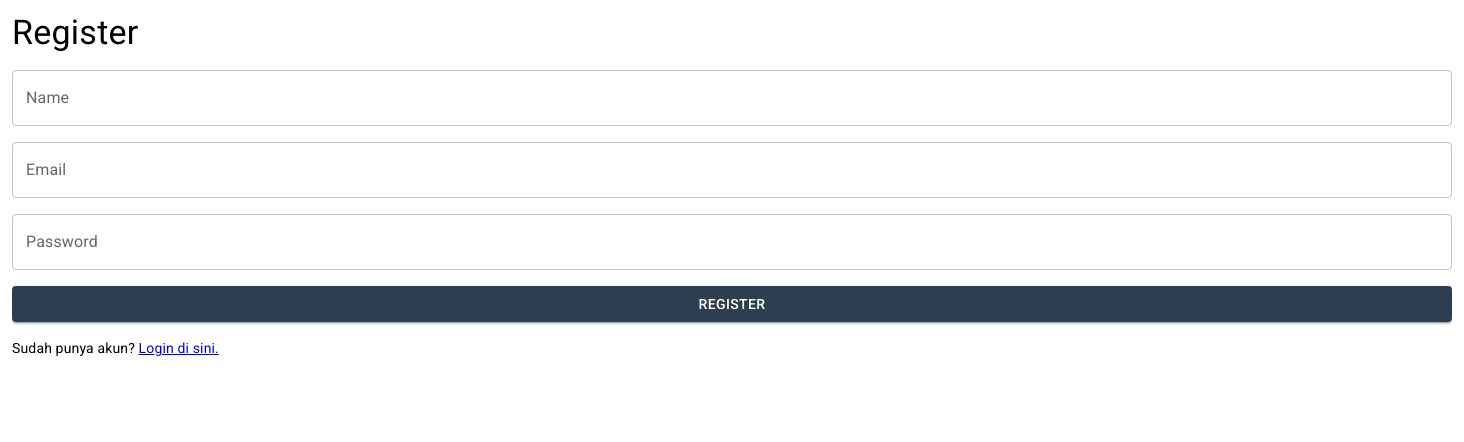
Test: RegisterForm component › should display error when submitting an empty form
This screenshot has width=1464, height=442.
What coordinates should you click on to do the following:
click the button "Register"
I would click on:
 (732, 304)
Its box is [12,286,1452,322].
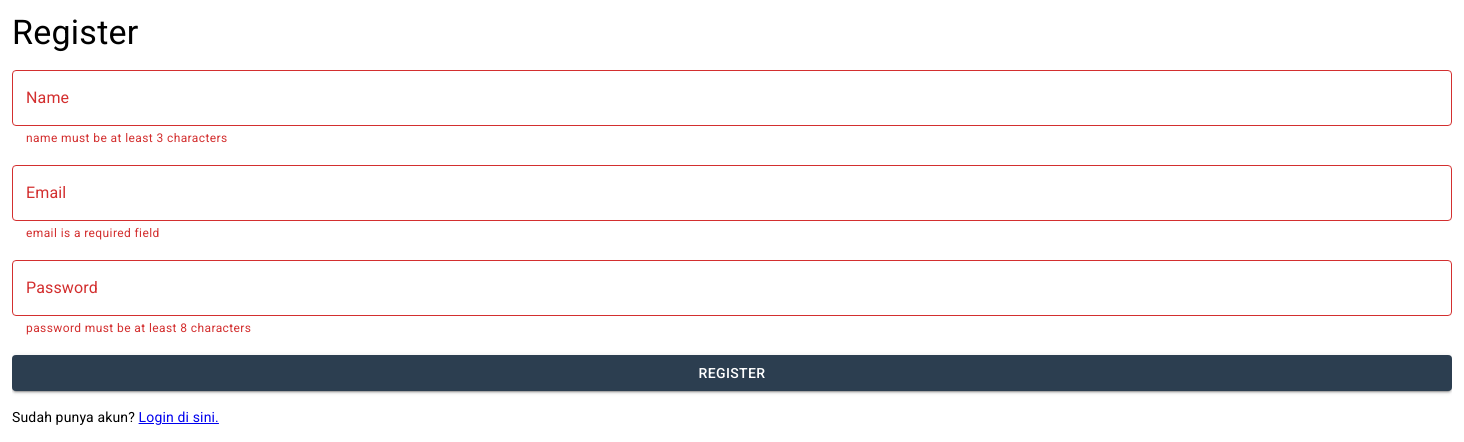
Check: the text "name must be at least 3 characters" is shown, box [26,131,228,145]
Check: the text "email is a required field" is shown, box [26,226,160,240]
Check: the text "password must be at least 8 characters" is shown, box [26,321,251,335]
